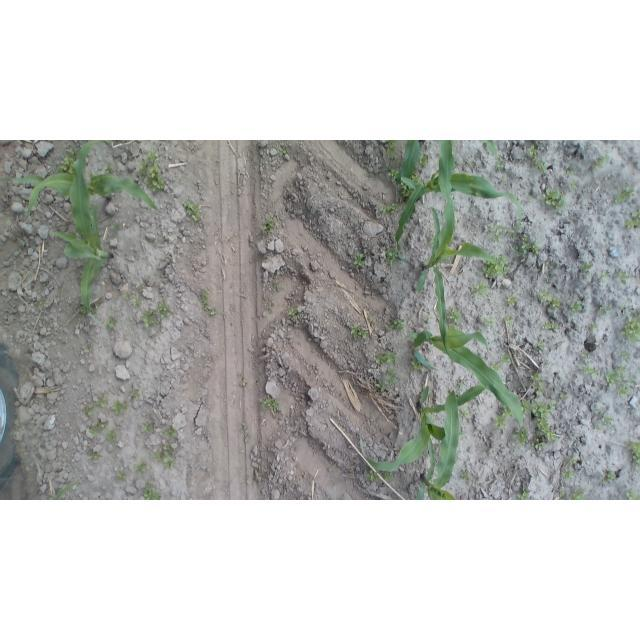Maize: (416, 140, 501, 362), (395, 153, 530, 267), (403, 324, 527, 445), (358, 384, 486, 478), (2, 147, 163, 220), (53, 140, 116, 318), (407, 392, 465, 501), (395, 140, 421, 186), (51, 481, 80, 499), (483, 140, 498, 157)
Weeds: (533, 400, 559, 444), (139, 149, 165, 192), (603, 364, 635, 396), (483, 255, 512, 280), (542, 188, 567, 214), (515, 235, 541, 258), (154, 443, 176, 469), (526, 145, 547, 172), (621, 316, 640, 345), (199, 289, 218, 316), (58, 149, 77, 173), (613, 185, 635, 205), (270, 270, 286, 295), (625, 441, 640, 467), (259, 395, 280, 413), (183, 202, 201, 223), (374, 351, 398, 366), (594, 411, 612, 430), (350, 324, 369, 341), (530, 373, 544, 395), (469, 281, 487, 298), (141, 309, 157, 328), (142, 485, 162, 500), (157, 300, 172, 319), (581, 364, 599, 379), (384, 369, 399, 387), (514, 426, 529, 444), (383, 141, 397, 160), (112, 400, 128, 416), (594, 154, 611, 169), (86, 448, 104, 462), (140, 420, 156, 435), (135, 459, 149, 476), (389, 317, 406, 331), (626, 211, 639, 229), (262, 216, 276, 232), (541, 319, 559, 331), (96, 395, 111, 409), (505, 293, 520, 307), (617, 269, 631, 284), (385, 249, 399, 264), (379, 204, 398, 215), (487, 224, 506, 235), (570, 488, 587, 500), (538, 289, 550, 306), (521, 396, 532, 414), (532, 437, 546, 451), (624, 488, 640, 500), (494, 414, 506, 430), (564, 454, 578, 467), (580, 260, 593, 274), (570, 299, 583, 313), (264, 301, 276, 316), (448, 309, 460, 324), (353, 252, 365, 267), (110, 223, 126, 234), (387, 168, 400, 181), (106, 431, 119, 444), (364, 170, 377, 183), (552, 340, 566, 352), (517, 487, 531, 499), (598, 304, 613, 315), (87, 424, 98, 439), (400, 185, 412, 198), (116, 469, 129, 481), (603, 469, 616, 481), (106, 317, 118, 330), (366, 470, 379, 482), (502, 314, 514, 327), (561, 469, 575, 480), (367, 314, 378, 327), (376, 379, 387, 392), (494, 159, 505, 172), (131, 296, 142, 309), (410, 361, 423, 372), (490, 361, 504, 371), (163, 427, 177, 437), (290, 307, 299, 322), (501, 352, 512, 364), (460, 471, 472, 482), (619, 351, 631, 362), (106, 163, 118, 174), (551, 297, 561, 310), (501, 407, 512, 418), (599, 271, 610, 282), (556, 488, 566, 500), (130, 389, 140, 401), (120, 292, 132, 302), (78, 307, 94, 314), (411, 173, 422, 183), (35, 297, 45, 308), (488, 235, 500, 244), (420, 153, 429, 165), (581, 349, 591, 359), (98, 421, 108, 431), (459, 407, 469, 417), (92, 300, 102, 310), (384, 472, 393, 483), (86, 405, 95, 416), (484, 318, 495, 327), (566, 168, 577, 177), (544, 273, 553, 283), (570, 181, 579, 191), (537, 340, 546, 350), (279, 145, 288, 155), (587, 323, 597, 332), (457, 379, 466, 389), (239, 377, 247, 388), (428, 232, 434, 246), (424, 315, 433, 324), (85, 343, 94, 352), (560, 389, 568, 399), (244, 435, 252, 444), (241, 421, 249, 430), (336, 493, 346, 500), (499, 175, 506, 185), (138, 284, 145, 294), (527, 193, 535, 201), (506, 230, 513, 239), (95, 419, 101, 425), (116, 426, 123, 431)
